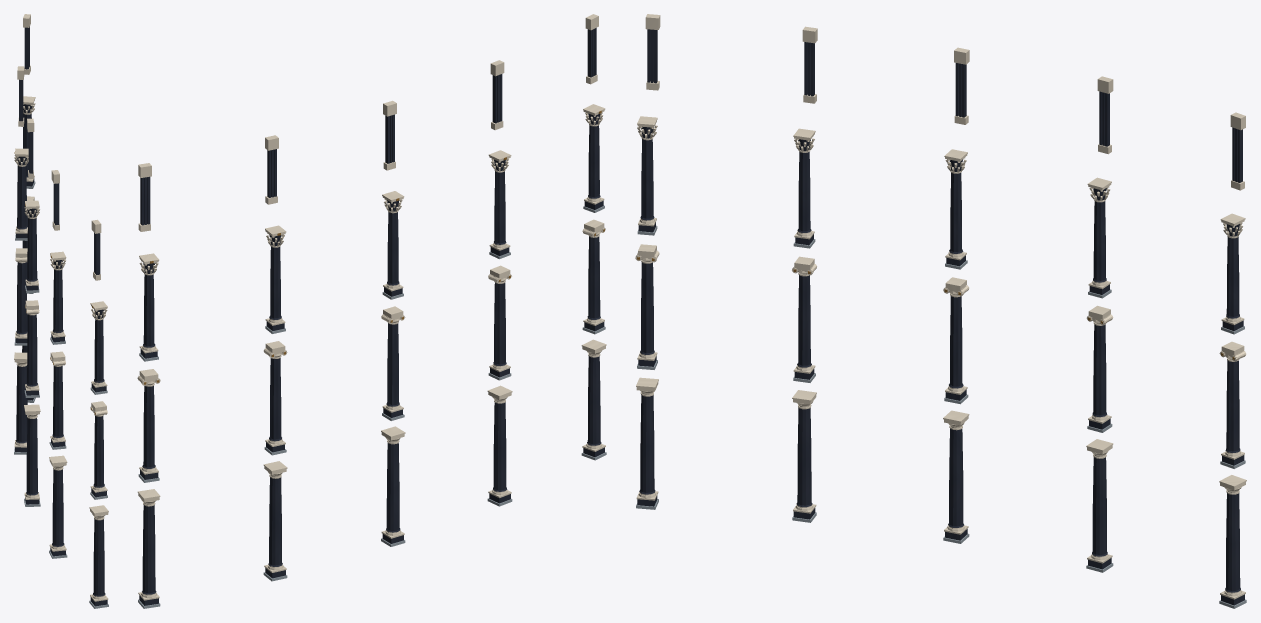
File: COL_ColumnOrders_O5.glb
3 views of the same model, side by side, from view 1: azimuth 30°, elevation 25°; view 2: azimuth 150°, elevation 25°; view 3: azimuth 270°, elevation 25° (orthographic). The views are drawn at different scales.
Parts seen in each view (by area): view 1: COL_ColumnOrders_O5; view 2: COL_ColumnOrders_O5; view 3: COL_ColumnOrders_O5.
Boxes of the visible parts, bbox=[...] form: COL_ColumnOrders_O5: bbox=[14, 14, 108, 608]; COL_ColumnOrders_O5: bbox=[137, 14, 606, 608]; COL_ColumnOrders_O5: bbox=[635, 14, 1246, 608].
Bounding box in the file's own units: 27.8 × 58.2 × 66.06.
4 materials, 4 textured.
